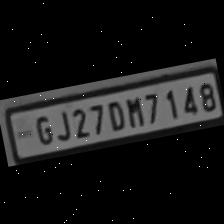1: (157, 84, 180, 122)
2: (65, 102, 90, 139)
4: (174, 80, 200, 116)
7: (140, 88, 164, 124), (84, 98, 107, 134)
8: (194, 77, 217, 113)
D: (101, 95, 126, 131)
G: (29, 109, 54, 145)
J: (50, 105, 72, 142)
M: (122, 92, 146, 128)
